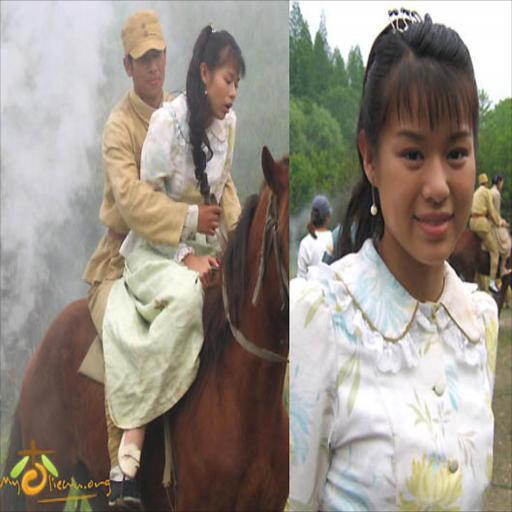horse: (0, 142, 290, 511), (448, 227, 511, 318)
